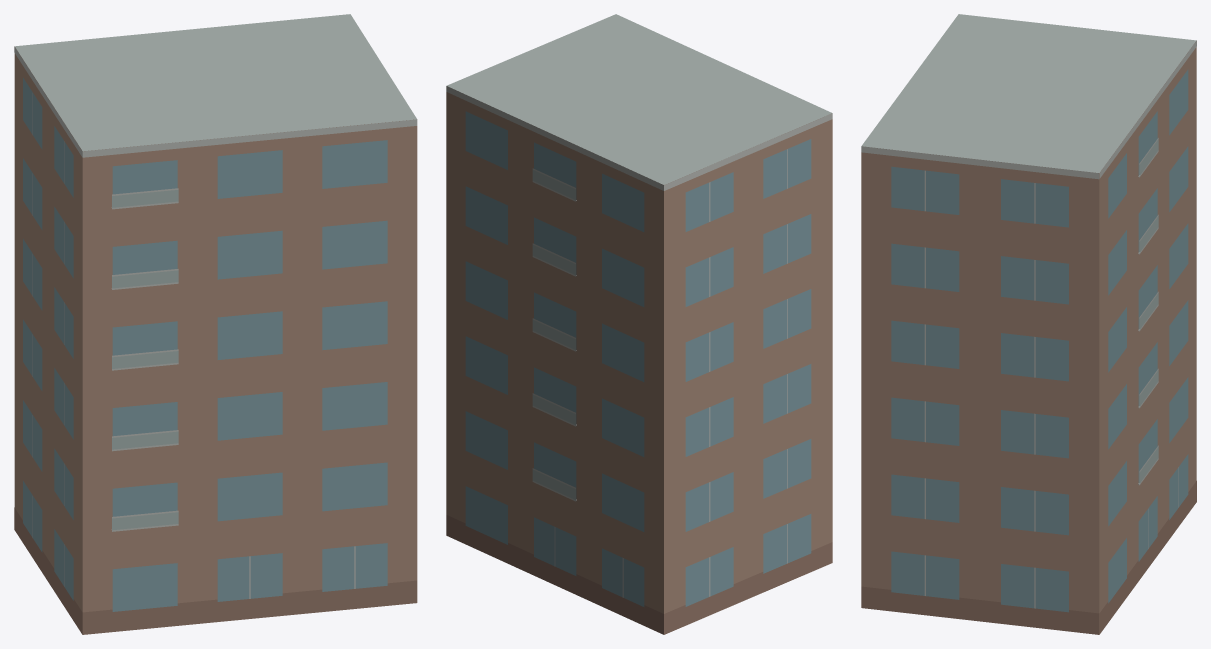
Rendered from survey-upis-33007047.glb.
3 renders of one model, left to right at view 1: azimuth 30°, elevation 25°; view 2: azimuth 150°, elevation 25°; view 3: azimuth 270°, elevation 25°, orthographic. The views are drawn at different scales.
Visible parts, largest first — view 1: survey-upis-33007047.tmp; view 2: survey-upis-33007047.tmp; view 3: survey-upis-33007047.tmp.
Boxes of the visible parts, x1=… form: survey-upis-33007047.tmp: x1=14, y1=14, x2=417, y2=634; survey-upis-33007047.tmp: x1=446, y1=14, x2=832, y2=634; survey-upis-33007047.tmp: x1=861, y1=14, x2=1196, y2=634.
Bounding box in the file's own units: 13.54 × 18.3 × 12.06.
